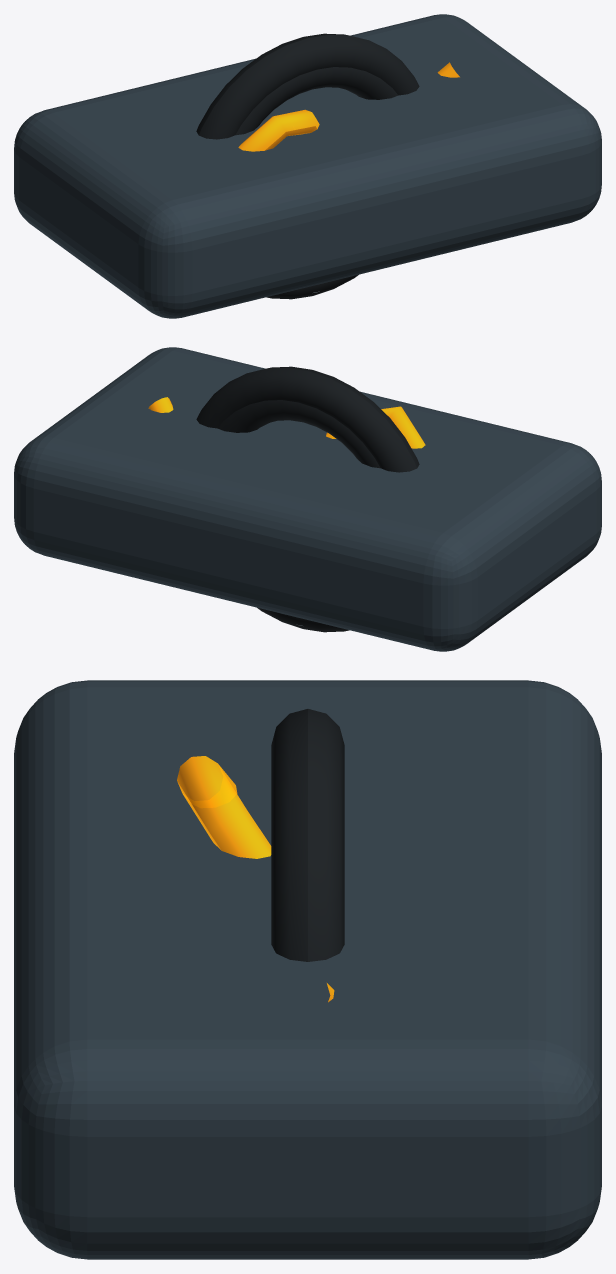
Rendered from body_07.glb.
3 renders of one model, top to bottom at view 1: azimuth 30°, elevation 25°; view 2: azimuth 150°, elevation 25°; view 3: azimuth 270°, elevation 25°, orthographic. The views are drawn at different scales.
Parts seen in each view (by area): view 1: asset_mesh__body_0422__reference_body, asset_mesh__body_0428__service_element, asset_mesh__body_0444__service_element, asset_mesh__body_0441__fluid_path; view 2: asset_mesh__body_0422__reference_body, asset_mesh__body_0428__service_element, asset_mesh__body_0444__service_element, asset_mesh__body_0441__fluid_path; view 3: asset_mesh__body_0422__reference_body, asset_mesh__body_0428__service_element, asset_mesh__body_0441__fluid_path.
Boxes of the visible parts, box(x1,y1,x2,y2) form: asset_mesh__body_0422__reference_body: box(14, 14, 601, 318); asset_mesh__body_0428__service_element: box(196, 33, 419, 299); asset_mesh__body_0444__service_element: box(235, 67, 398, 135); asset_mesh__body_0441__fluid_path: box(238, 62, 459, 151); asset_mesh__body_0422__reference_body: box(14, 347, 601, 651); asset_mesh__body_0428__service_element: box(196, 366, 419, 632); asset_mesh__body_0444__service_element: box(217, 400, 380, 468); asset_mesh__body_0441__fluid_path: box(148, 397, 425, 448); asset_mesh__body_0422__reference_body: box(14, 680, 601, 1259); asset_mesh__body_0428__service_element: box(271, 709, 344, 961); asset_mesh__body_0441__fluid_path: box(177, 756, 334, 1002).
Bounding box in the file's own units: 1.47 × 0.7868 × 0.882.
